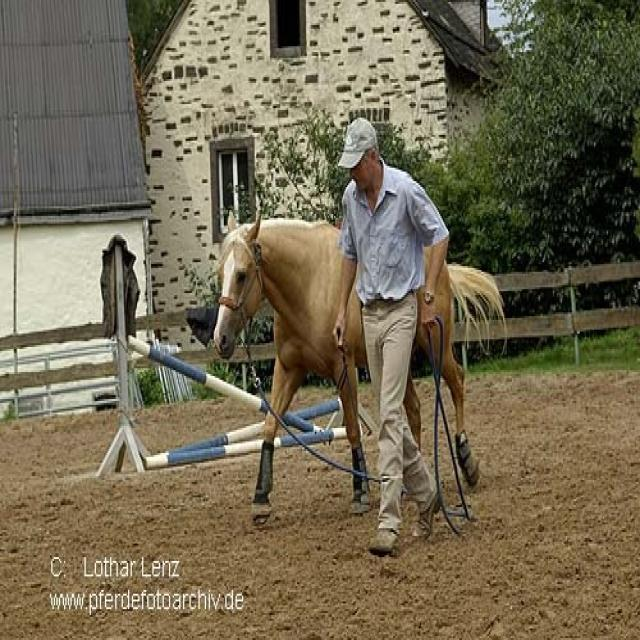horse: (207, 195, 514, 526)
